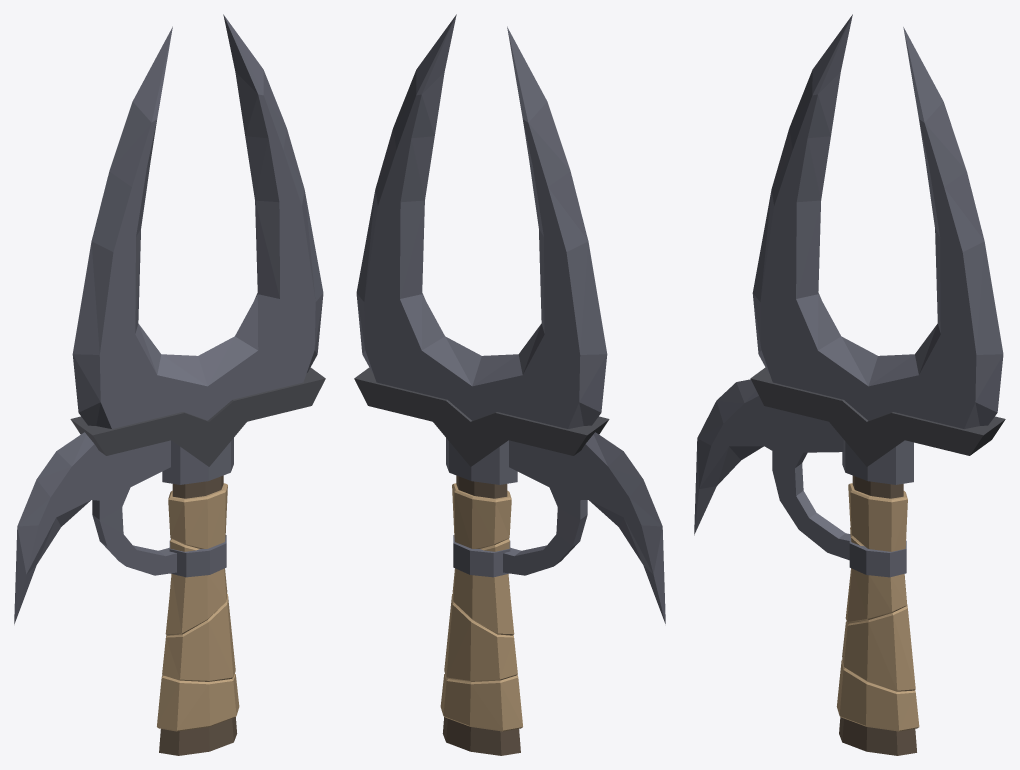
File: dagger_dagger_18.glb
3 views of the same model, side by side, from view 1: azimuth 30°, elevation 25°; view 2: azimuth 150°, elevation 25°; view 3: azimuth 330°, elevation 25° (orthographic).
Visible parts, largest first — view 1: dagger_18; view 2: dagger_18; view 3: dagger_18.
Boxes of the visible parts, <box> form: dagger_18: <box>14,14,325,755</box>; dagger_18: <box>354,14,665,755</box>; dagger_18: <box>694,14,1005,755</box>.
Size of the model in its own units: 19.83 by 44.3 by 2.68.
Materials: 1 (1 with a texture image).
